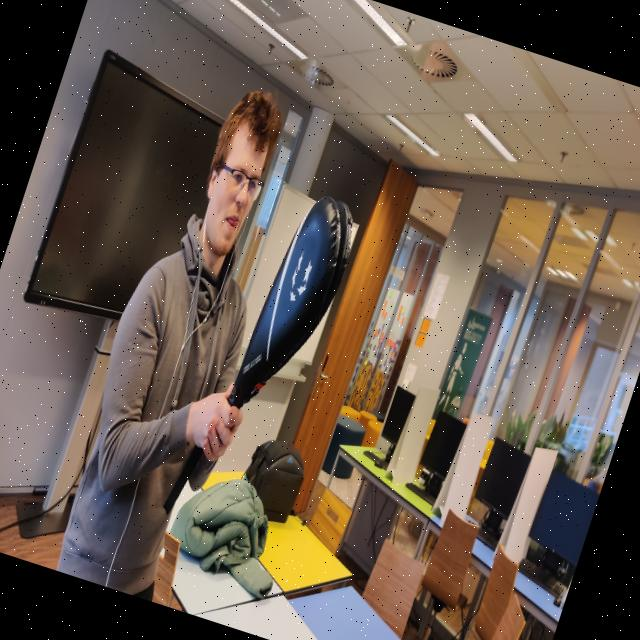paddle: (227, 197, 351, 412)
